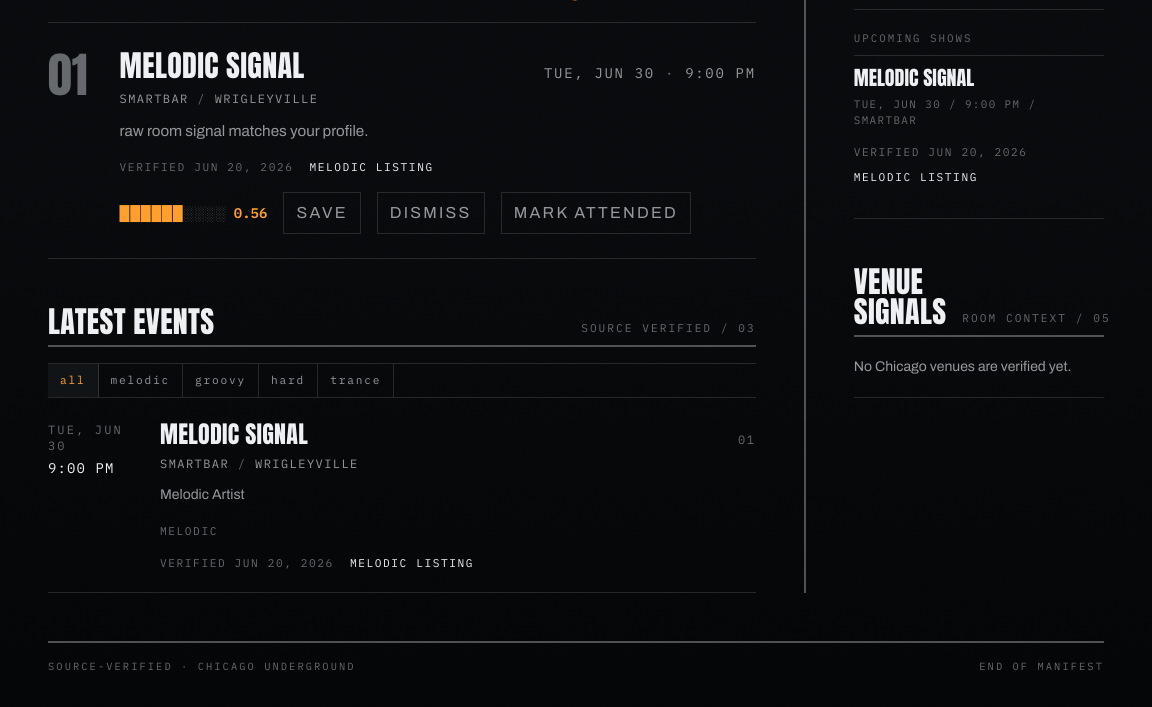
Test: DashboardShell › does not duplicate the showcase artist in the style matches list
(page scrolled)
expect the heading "Melodic Signal" below "Latest Events" is shown: met, box [160,422,308,446]
What coordinates should you click on to do the following:
click the button "melodic"
I would click on:
 (141, 380)
Its box is [98,364,183,397].
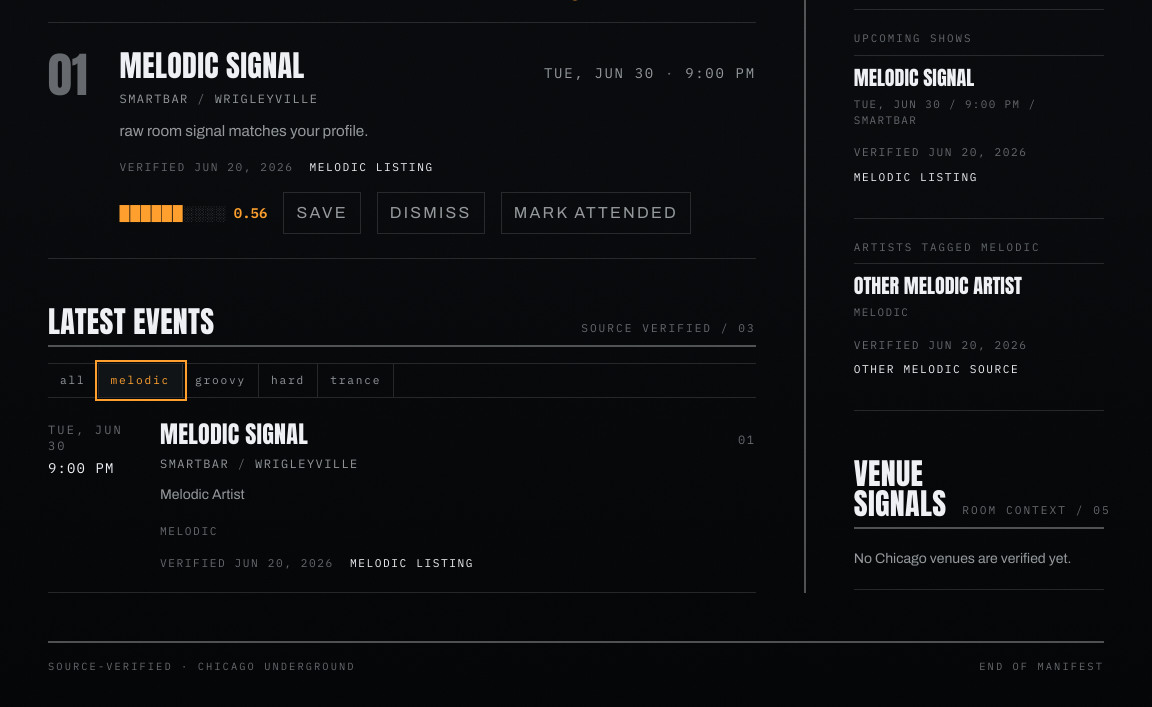
expect the heading "Other Melodic Artist" is shown: met, box [854,270,1022,301]
